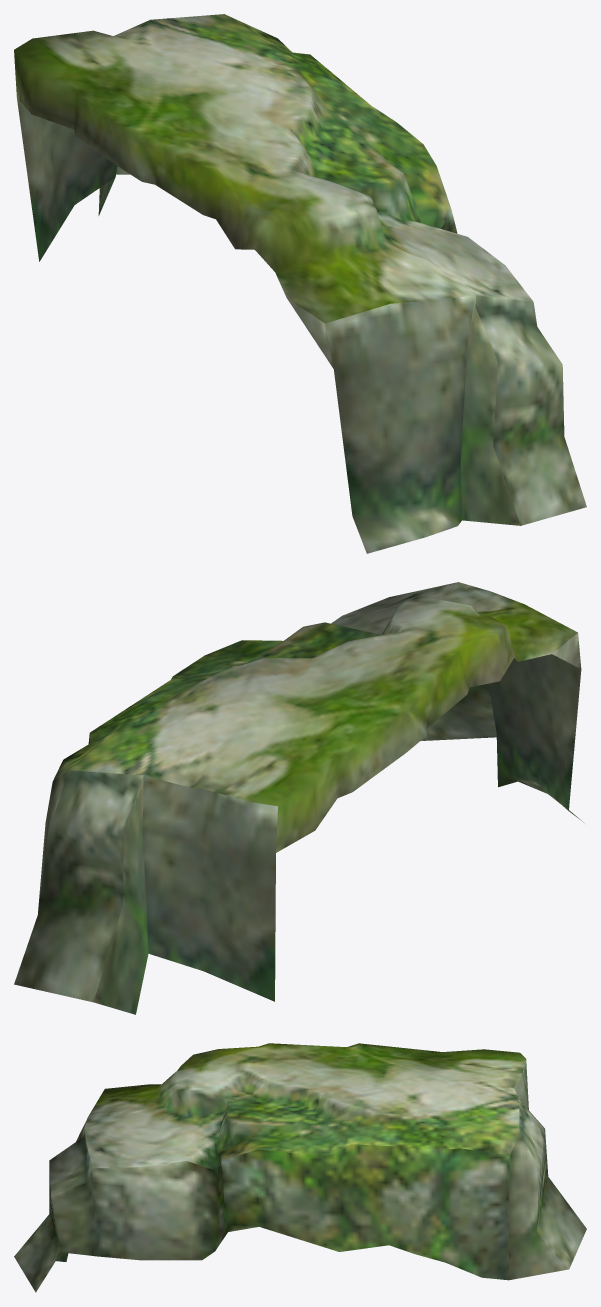
The model's file is S_Rock_Green048_1060_18.fbx.
The picture shows the model from 3 angles, top to bottom: view 1: azimuth 30°, elevation 25°; view 2: azimuth 150°, elevation 25°; view 3: azimuth 270°, elevation 25°; orthographic projection. The views are drawn at different scales.
Parts seen in each view (by area): view 1: S_Rock_Green048_1060_18; view 2: S_Rock_Green048_1060_18; view 3: S_Rock_Green048_1060_18.
Boxes of the visible parts, x1,y1,x2,y2 form: S_Rock_Green048_1060_18: (14, 14, 586, 553); S_Rock_Green048_1060_18: (14, 582, 583, 1014); S_Rock_Green048_1060_18: (14, 1043, 586, 1292).
Size of the model in its own units: 714 by 700 by 1894.
1 material, 1 textured.
